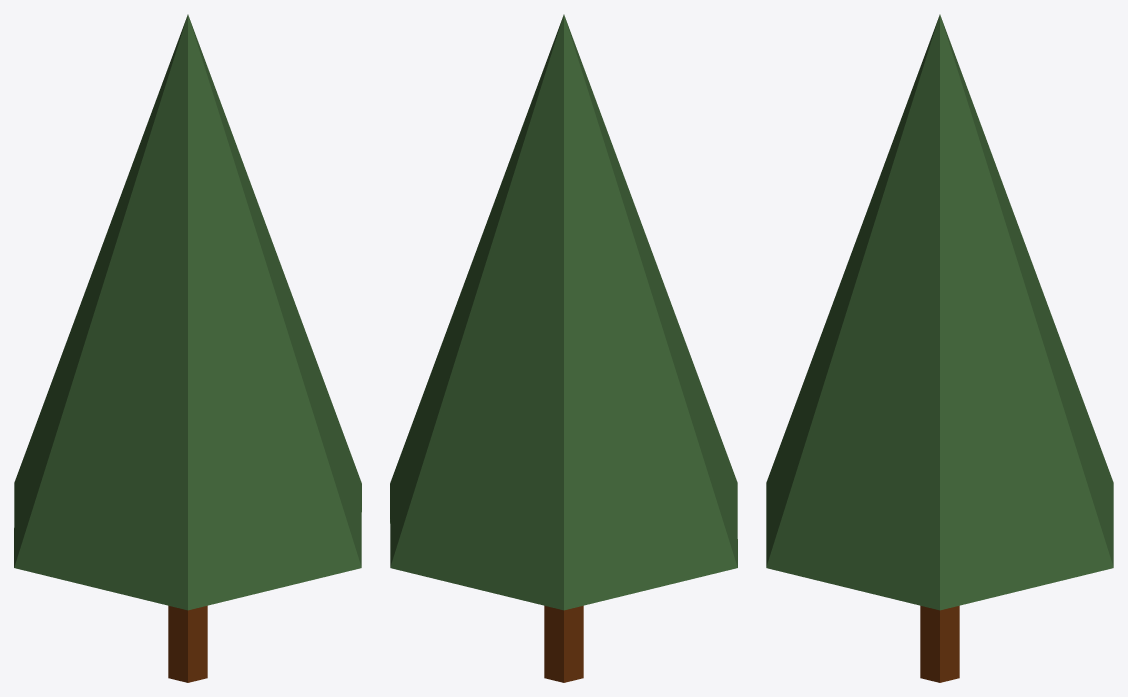
The model's file is tree.obj.
The picture shows the model from 3 angles, left to right: view 1: azimuth 30°, elevation 25°; view 2: azimuth 150°, elevation 25°; view 3: azimuth 270°, elevation 25°; orthographic projection.
Size of the model in its own units: 3.2 by 5.8 by 2.77.
